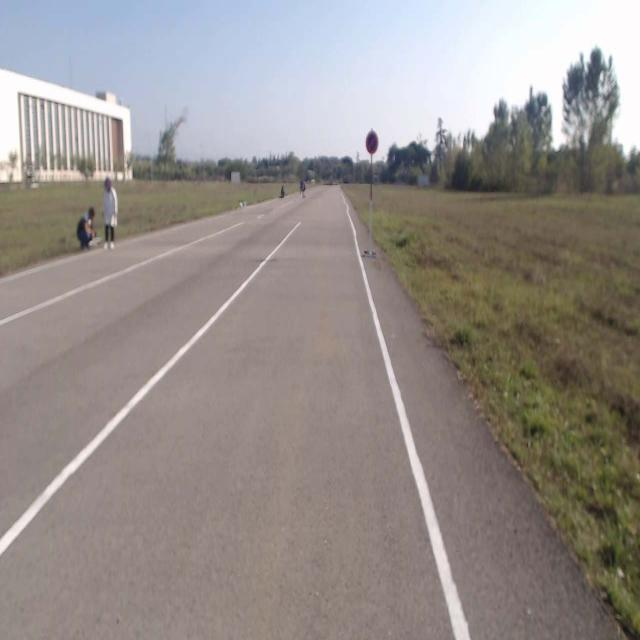parkyasak: (366, 129, 378, 155)
